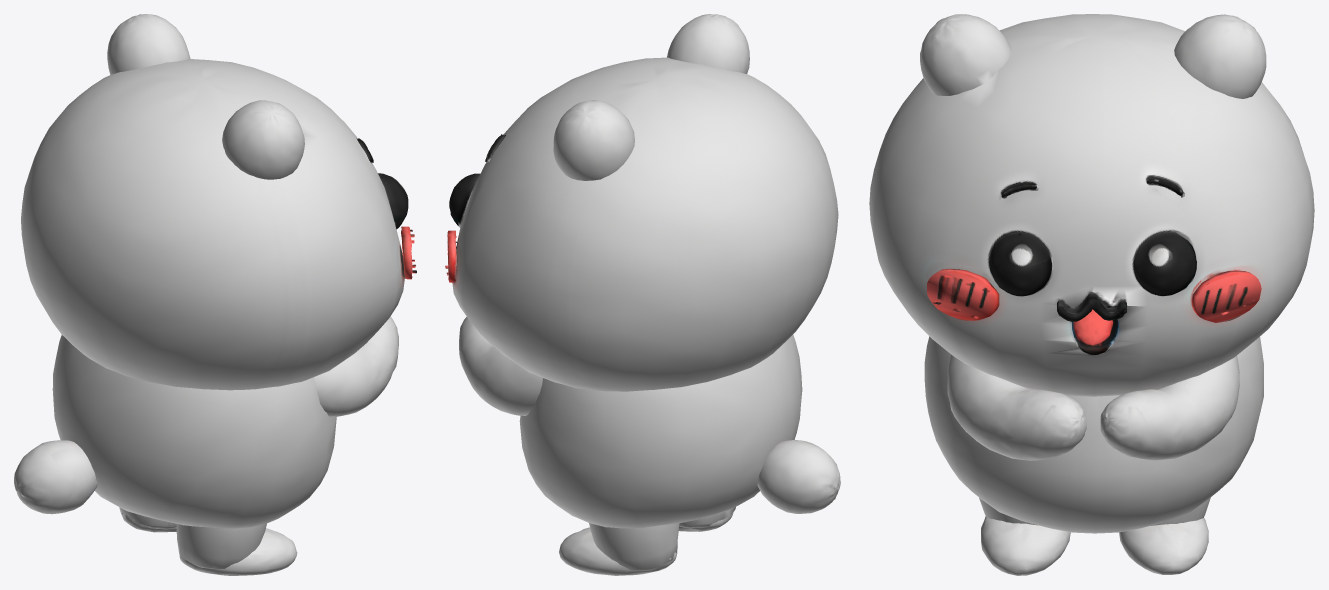
The model's file is kaho.glb.
3 renders of one model, left to right at view 1: azimuth 30°, elevation 25°; view 2: azimuth 150°, elevation 25°; view 3: azimuth 270°, elevation 25°, orthographic. The views are drawn at different scales.
Parts seen in each view (by area): view 1: tripo_node_91a84741-058b-45f4-aa05-02384250d328; view 2: tripo_node_91a84741-058b-45f4-aa05-02384250d328; view 3: tripo_node_91a84741-058b-45f4-aa05-02384250d328.
Boxes of the visible parts, x1,y1,x2,y2 form: tripo_node_91a84741-058b-45f4-aa05-02384250d328: (14, 14, 416, 575); tripo_node_91a84741-058b-45f4-aa05-02384250d328: (445, 14, 840, 575); tripo_node_91a84741-058b-45f4-aa05-02384250d328: (869, 14, 1314, 575).
Bounding box in the file's own units: 0.7715 × 0.998 × 0.7559.
1 material, 1 textured.
